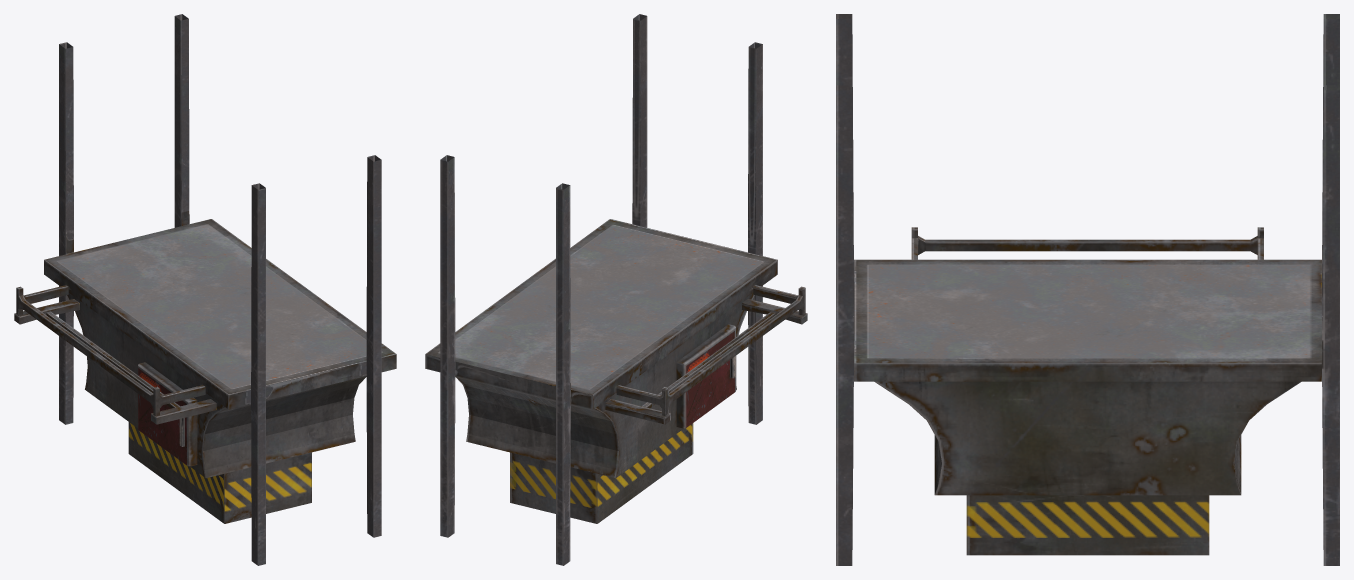
Rendered from SM_Tables_LP_Candy_Cart_Stand_Table1.fbx.
The picture shows the model from 3 angles, left to right: view 1: azimuth 30°, elevation 25°; view 2: azimuth 150°, elevation 25°; view 3: azimuth 270°, elevation 25°; orthographic projection. The views are drawn at different scales.
Parts seen in each view (by area): view 1: SM_Tables_LP_Candy_Cart_Stand_Table1_LOD0; view 2: SM_Tables_LP_Candy_Cart_Stand_Table1_LOD0; view 3: SM_Tables_LP_Candy_Cart_Stand_Table1_LOD0.
Part boxes in pixels (<box>): SM_Tables_LP_Candy_Cart_Stand_Table1_LOD0: <box>14,14,396,565</box>; SM_Tables_LP_Candy_Cart_Stand_Table1_LOD0: <box>425,14,807,565</box>; SM_Tables_LP_Candy_Cart_Stand_Table1_LOD0: <box>836,14,1339,565</box>.
Size of the model in its own units: 146 by 230 by 240.
1 material, 1 textured.
